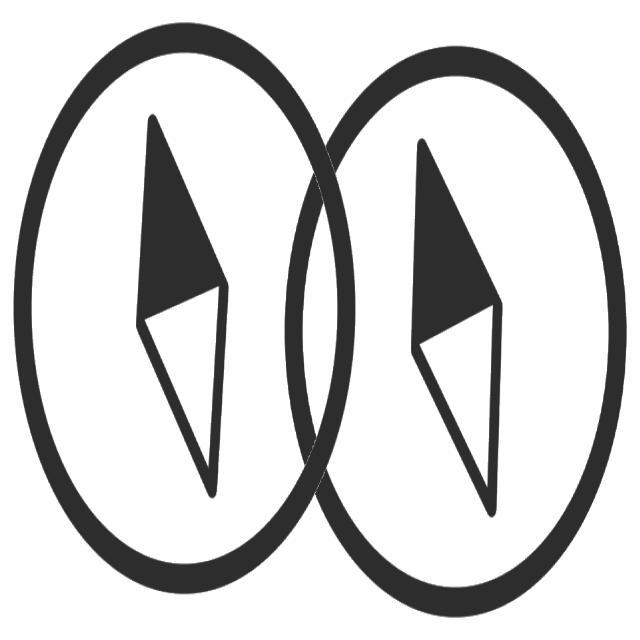compass: (264, 38, 633, 632), (9, 17, 364, 607)
